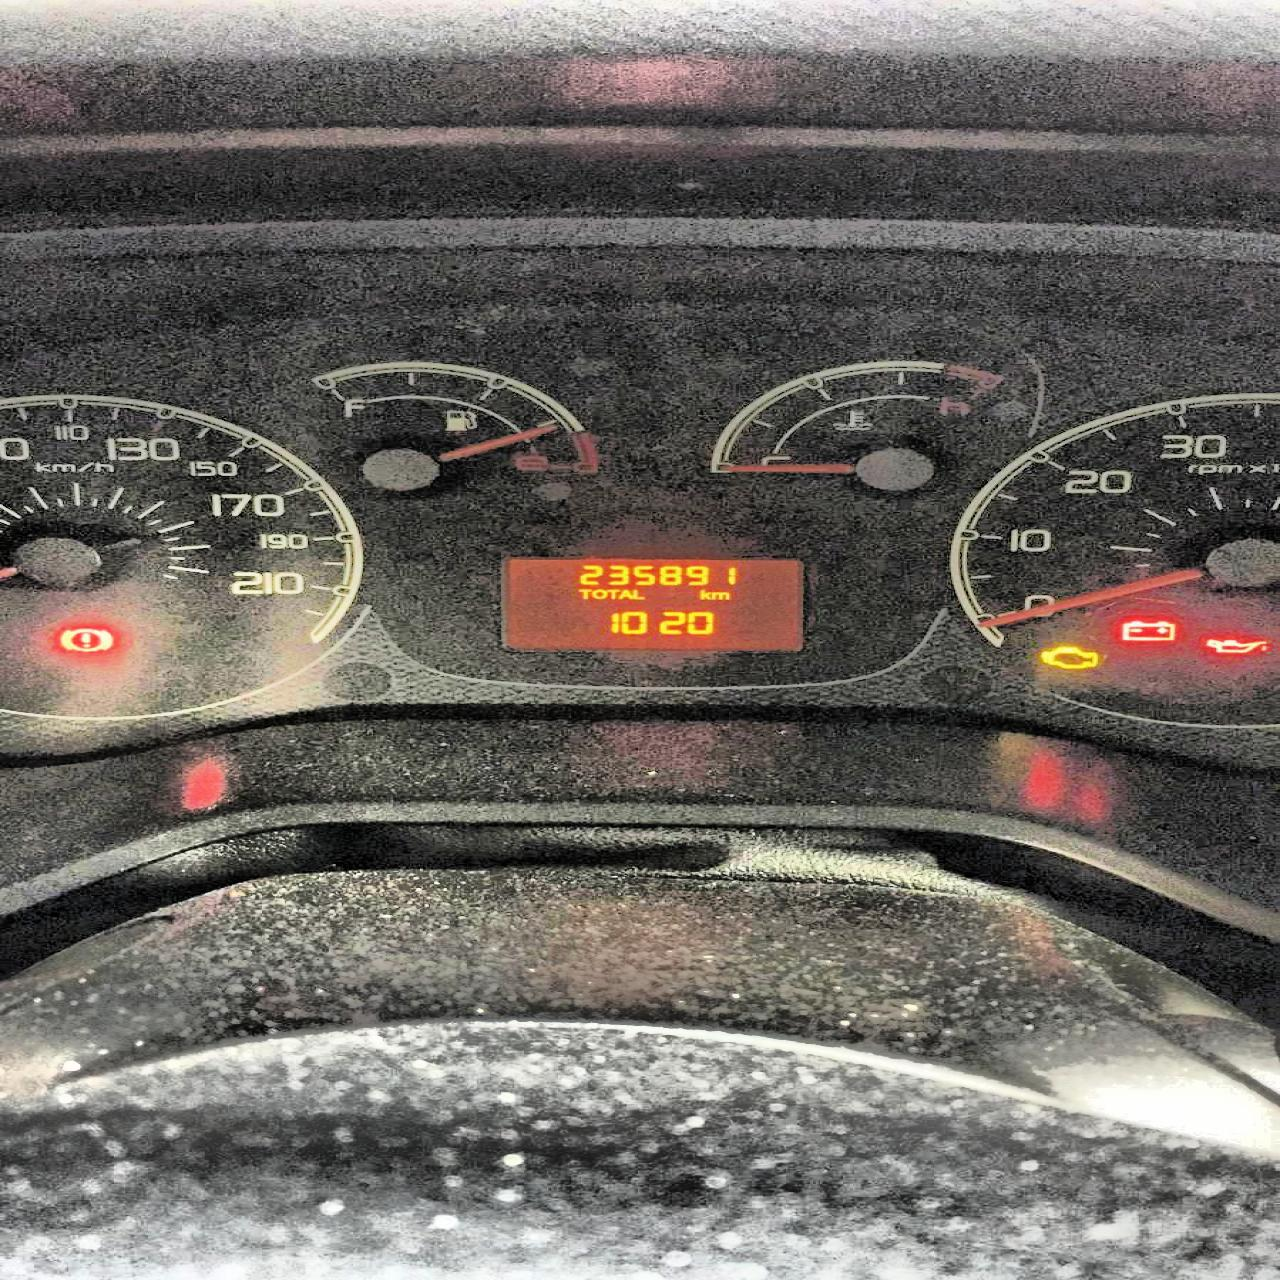0: (620, 611, 649, 634), (686, 611, 715, 634)
1: (724, 565, 737, 585), (608, 611, 618, 633)
2: (658, 610, 683, 633), (578, 565, 602, 585)
3: (606, 564, 629, 586)
5: (632, 565, 655, 585)
8: (658, 565, 681, 586)
9: (683, 564, 708, 586)
X: (709, 591, 730, 600), (590, 588, 605, 599), (618, 588, 631, 600), (576, 587, 590, 598), (606, 588, 620, 599), (631, 588, 645, 599), (697, 588, 709, 600)
odometer: (497, 552, 809, 653)
